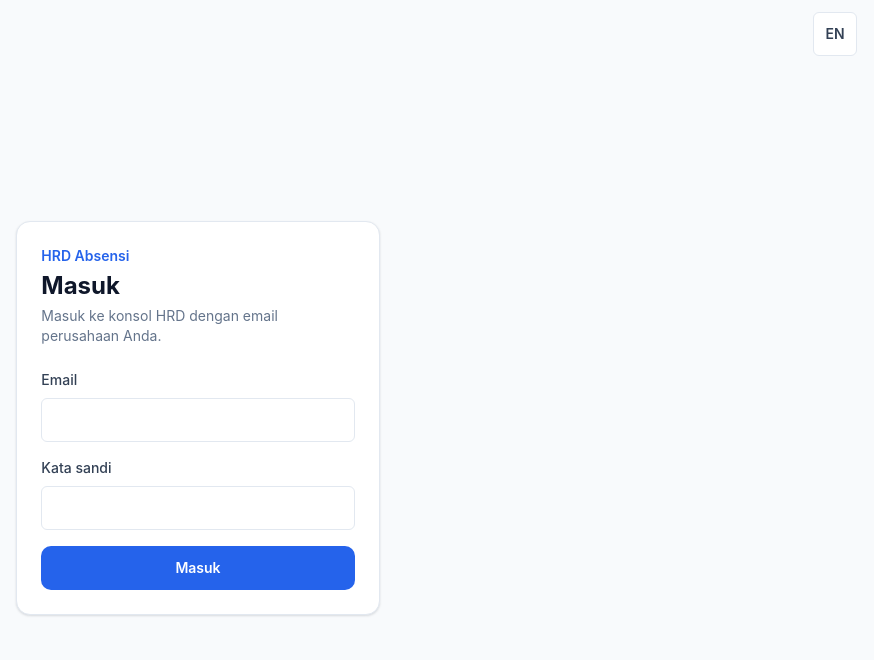
Test: LoginPage › omits the attempts line when the server stopped counting them
In the field labelled "Email": [198, 420] box [41,398,355,442], type "admin@corp.test"
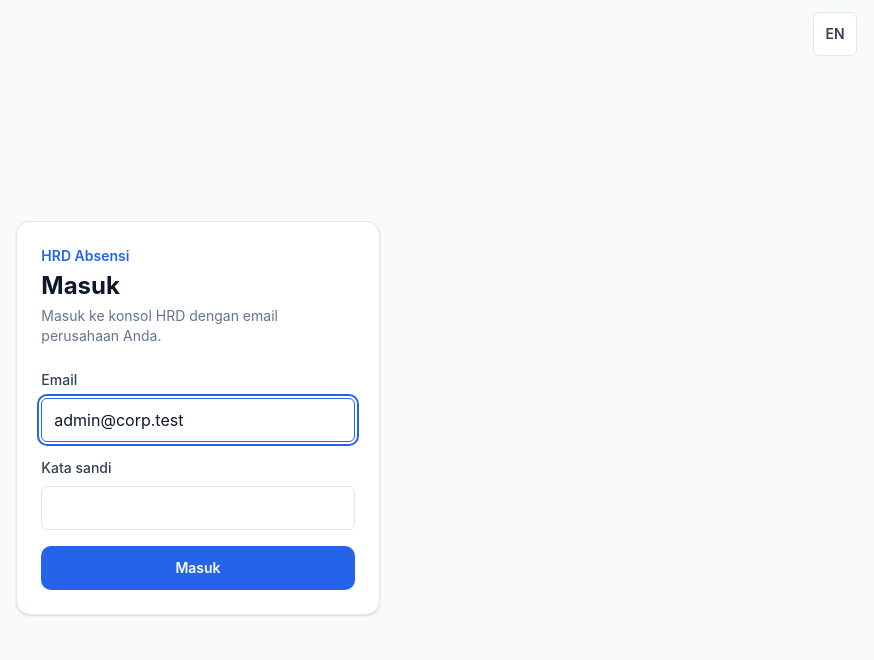
In the password field labelled "Kata sandi": [198, 508] box [41,486,355,530], type "secret-1"
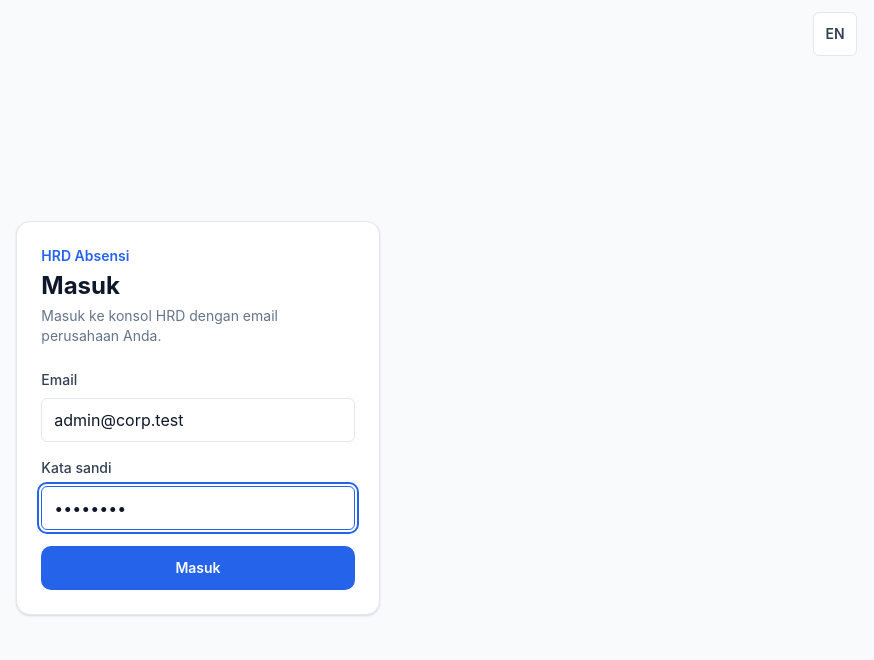
Click the button "Masuk": [198, 568] box [41,546,355,590]
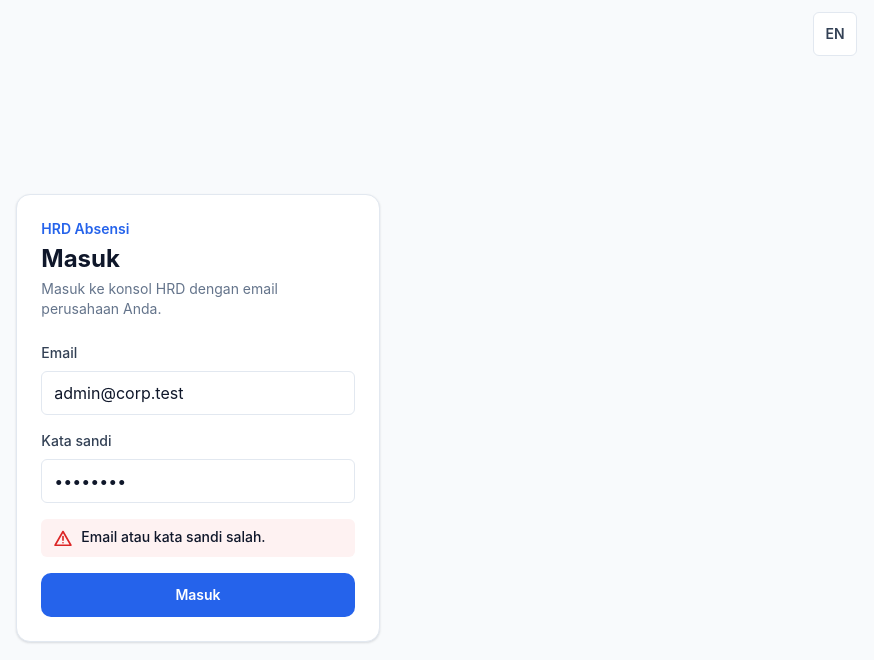
Result: the message with test id "login-error" reads "Email atau kata sandi salah." at [81,528,266,545]
